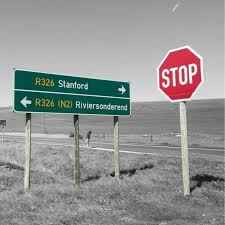stop sign: (157, 46, 202, 102)
